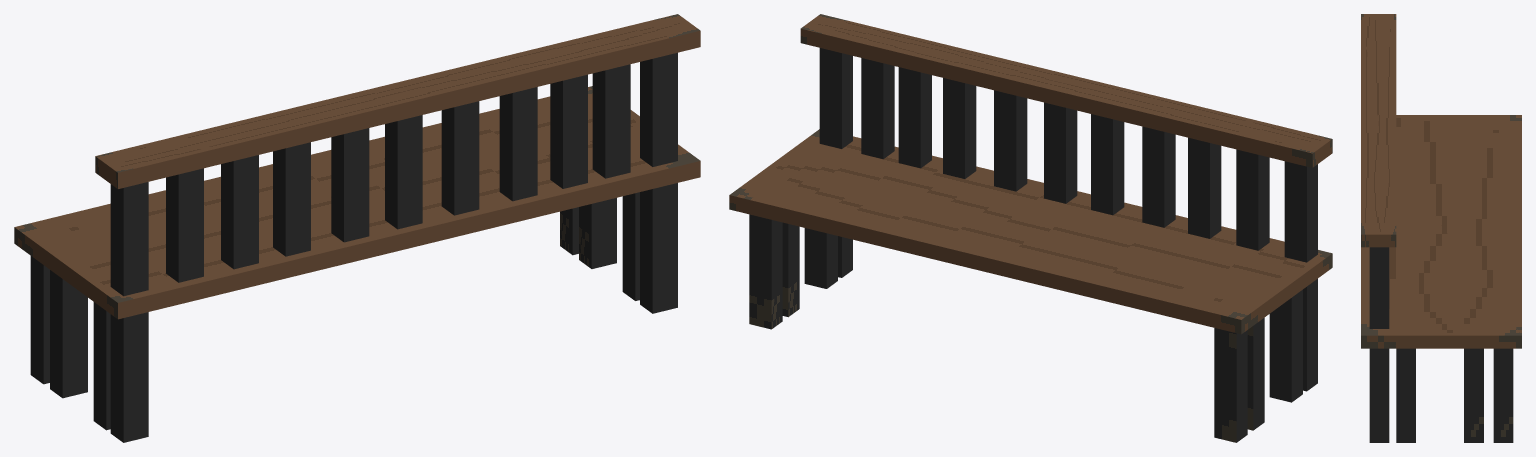
Rendered from park_bench.gltf.
The picture shows the model from 3 angles, left to right: view 1: azimuth 30°, elevation 25°; view 2: azimuth 150°, elevation 25°; view 3: azimuth 270°, elevation 25°; orthographic projection. The views are drawn at different scales.
Parts seen in each view (by area): view 1: cube (×21); view 2: cube (×20); view 3: cube (×7).
Boxes of the visible parts, x1=… form: cube (×21): x1=14, y1=14, x2=700, y2=442; cube (×20): x1=729, y1=14, x2=1332, y2=442; cube (×7): x1=1361, y1=14, x2=1521, y2=442.
Bounding box in the file's own units: 0.5781 × 0.2625 × 0.1781.
1 material, 1 textured.
